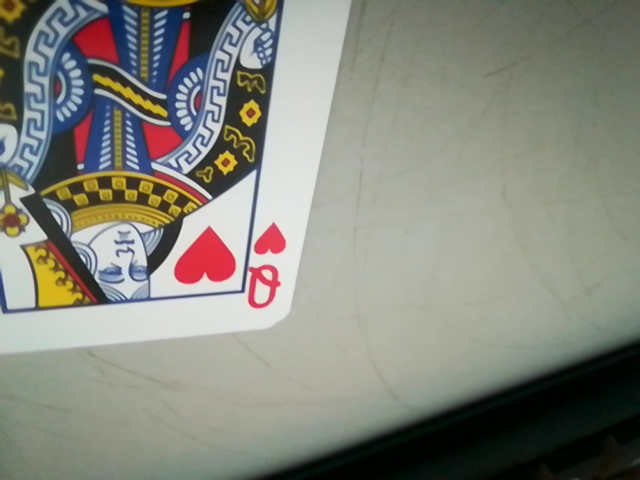hx q: (244, 223, 296, 312)
